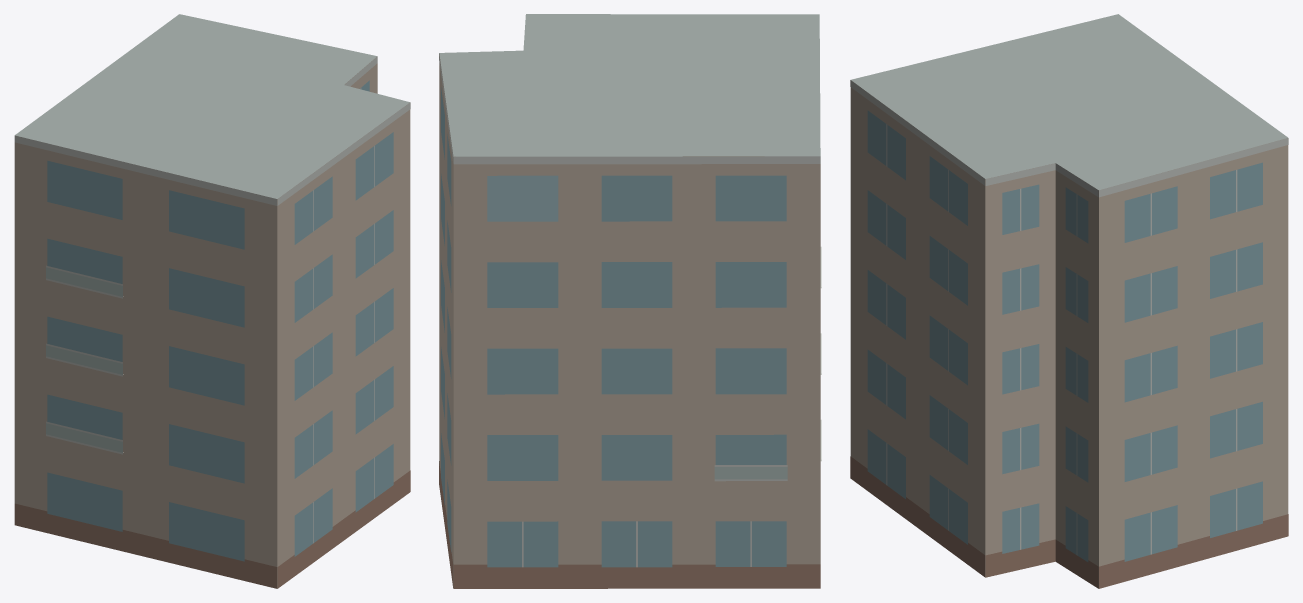
Rendered from survey-upis-32862818.glb.
3 views of the same model, side by side, from view 1: azimuth 30°, elevation 25°; view 2: azimuth 150°, elevation 25°; view 3: azimuth 270°, elevation 25° (orthographic). The views are drawn at different scales.
Parts seen in each view (by area): view 1: survey-upis-32862818.tmp; view 2: survey-upis-32862818.tmp; view 3: survey-upis-32862818.tmp.
Part boxes in pixels (x1,y1,x2,y2): survey-upis-32862818.tmp: [14, 14, 410, 588]; survey-upis-32862818.tmp: [439, 14, 821, 588]; survey-upis-32862818.tmp: [850, 14, 1288, 588].
Bounding box in the file's own units: 12.96 × 13.65 × 13.6.
